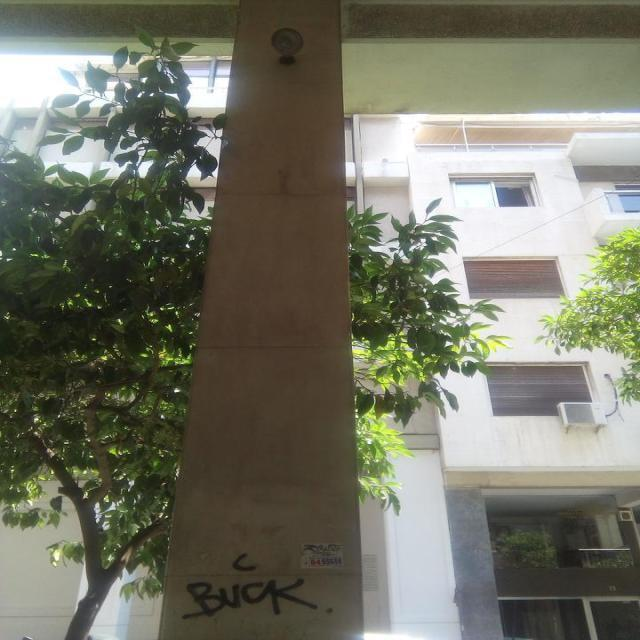nonspitting: (178, 550, 336, 622)
